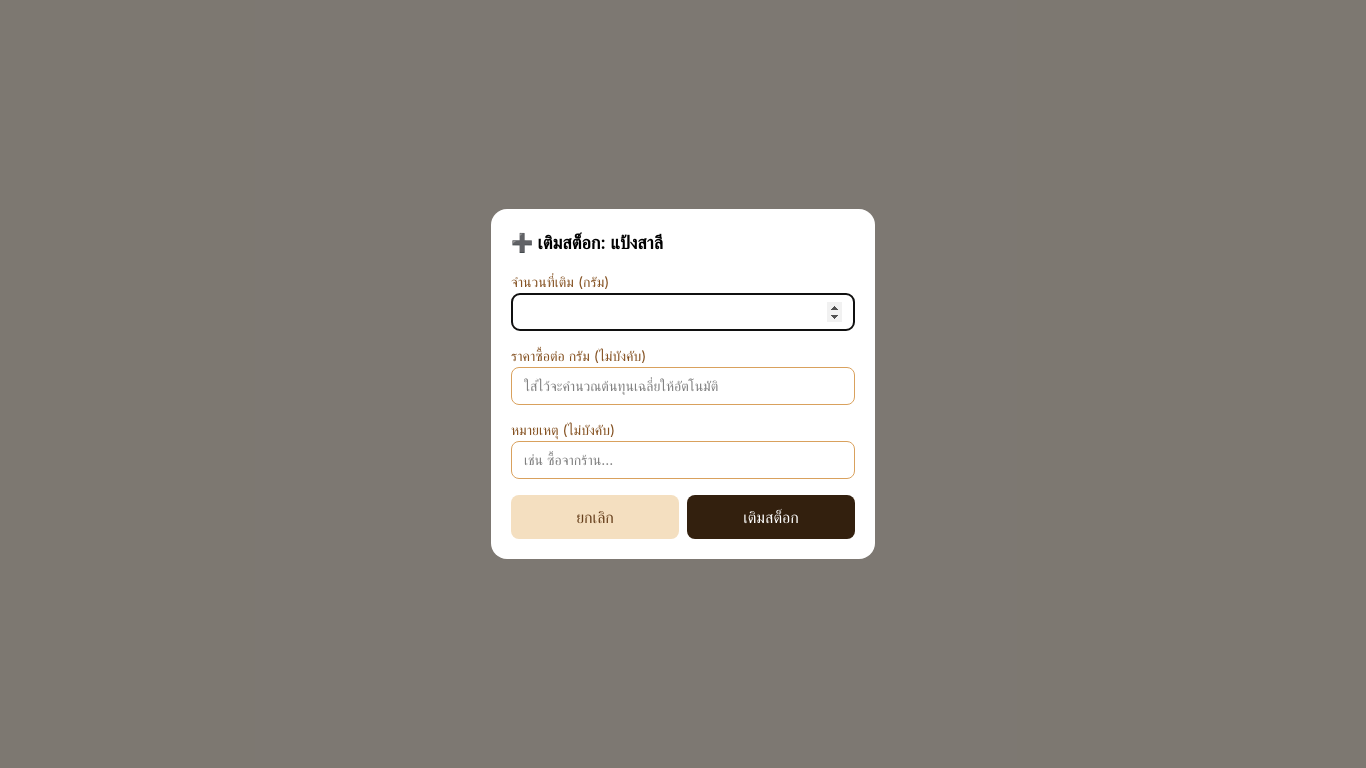
it: RestockModal › เติมสต็อกไม่สำเร็จ แสดง error จาก restockIngredient
Type "1000" into the number field labelled "จำนวนที่เติม (กรัม)" at (683, 312), box x1=511 y1=293 x2=855 y2=331
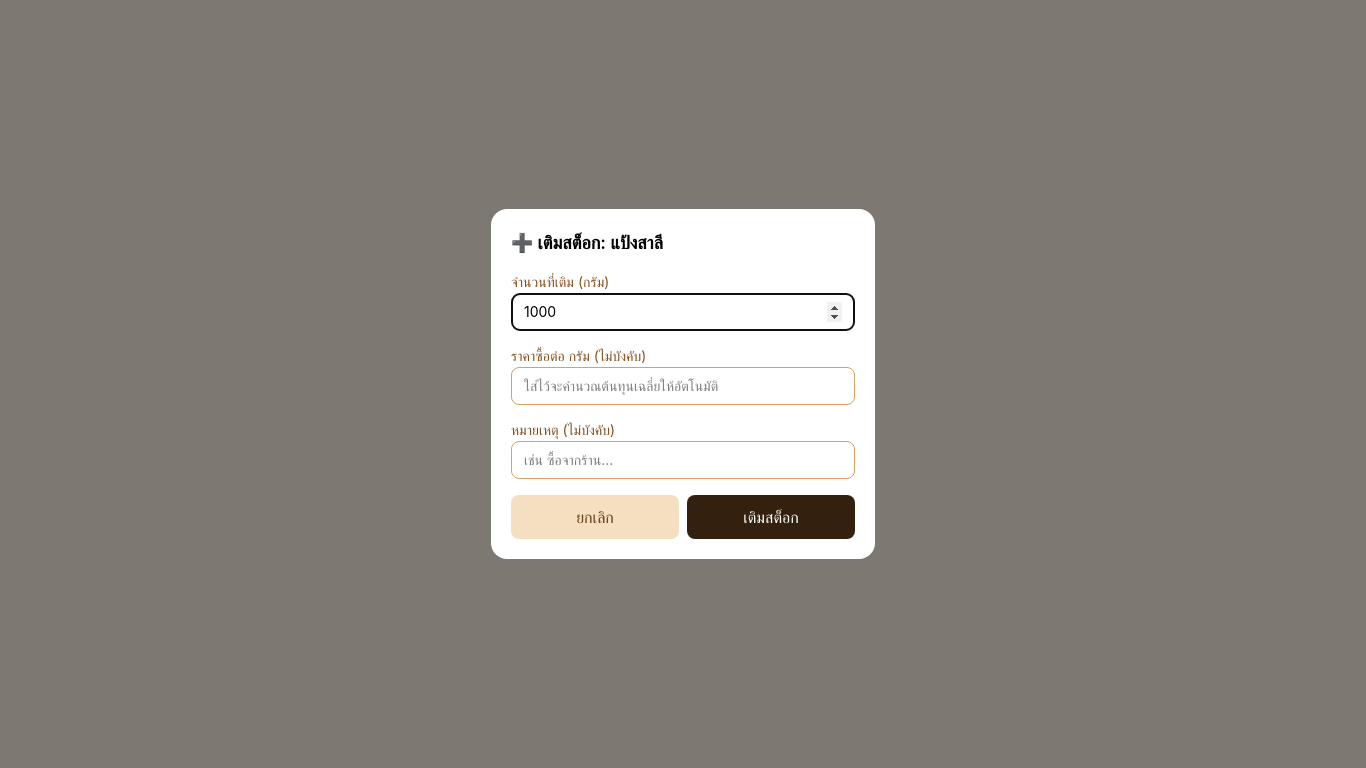
Click the button "เติมสต็อก" at (771, 517), box x1=687 y1=495 x2=855 y2=539
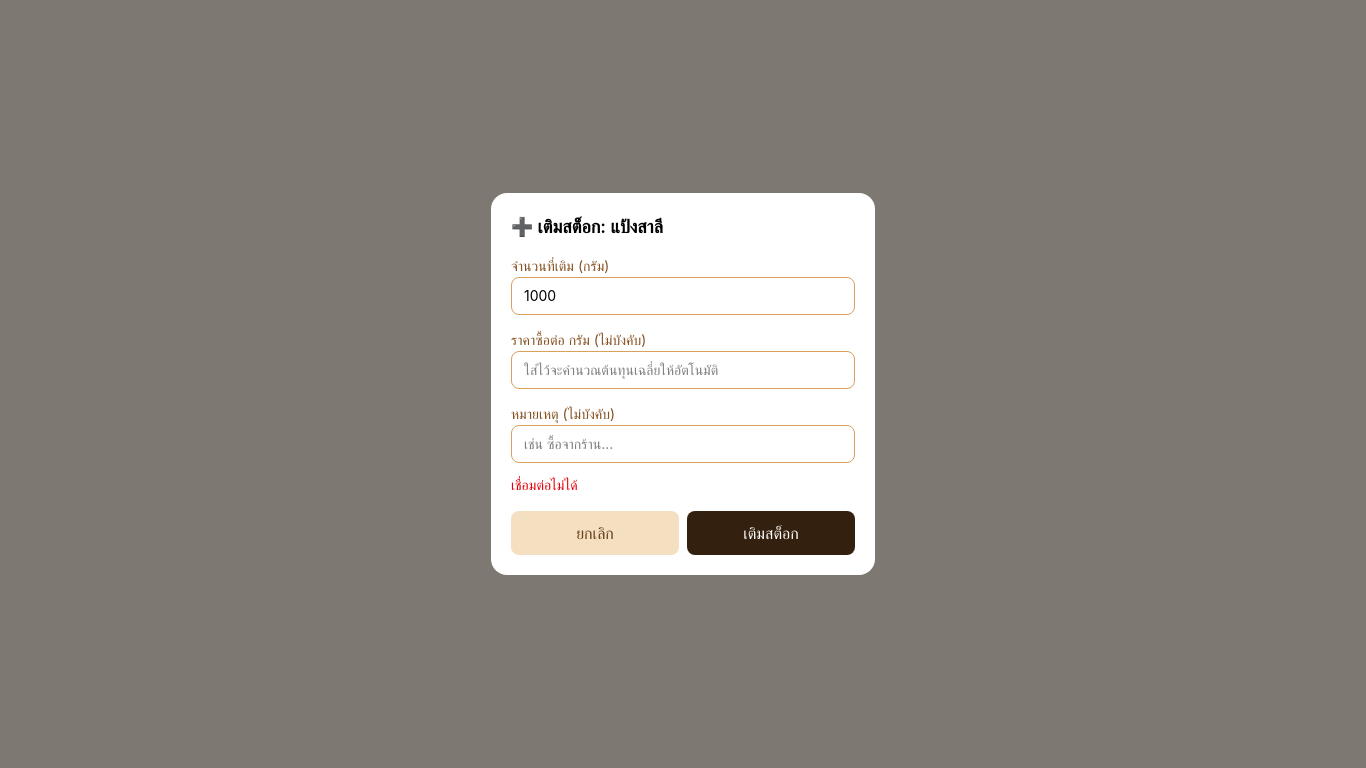
Now the text "เชื่อมต่อไม่ได้" is shown, box x1=511 y1=476 x2=578 y2=493
